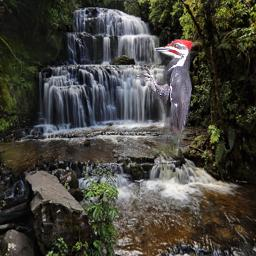Woodpecker: (135, 39, 195, 157)
